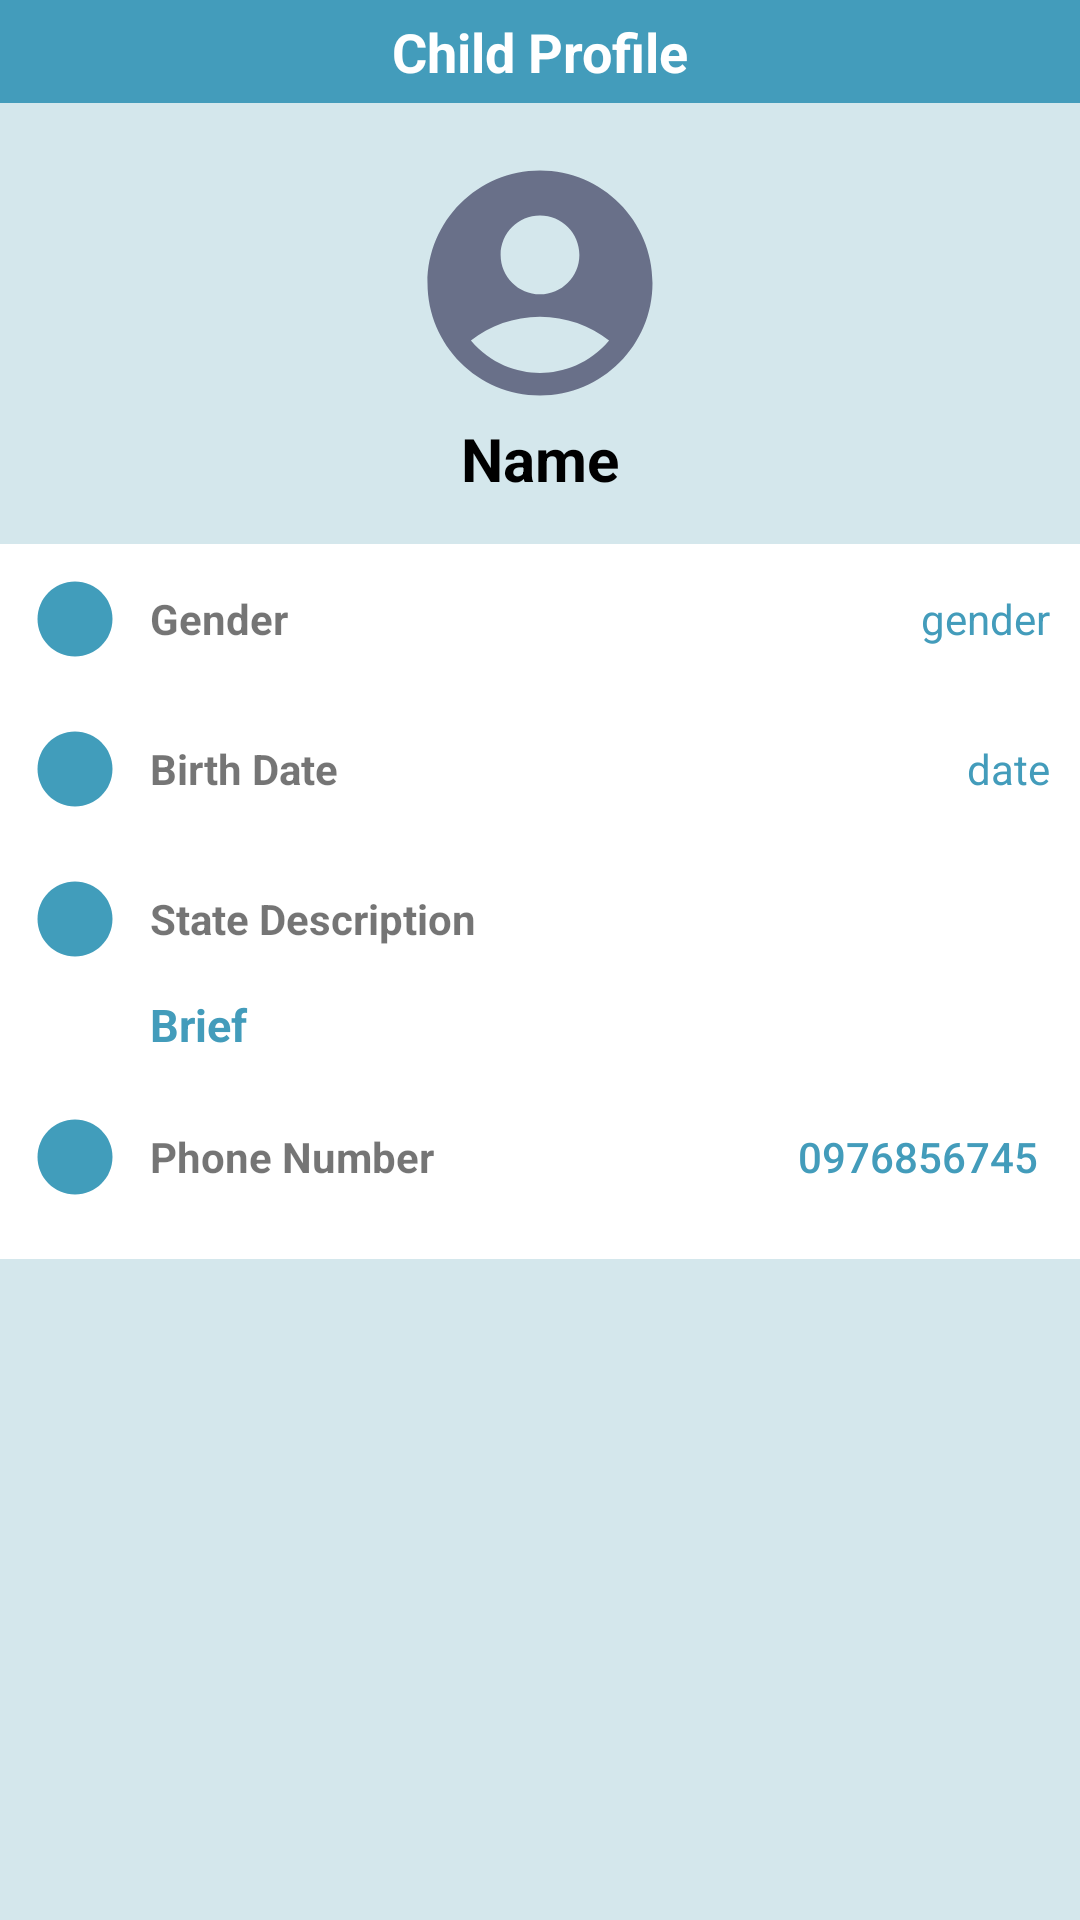

Icon bounding boxes for this 1080 × 1920 phone screenshot, format bbox=(x1, y1, x2, y2):
account circle: bbox=(427, 170, 653, 396)
